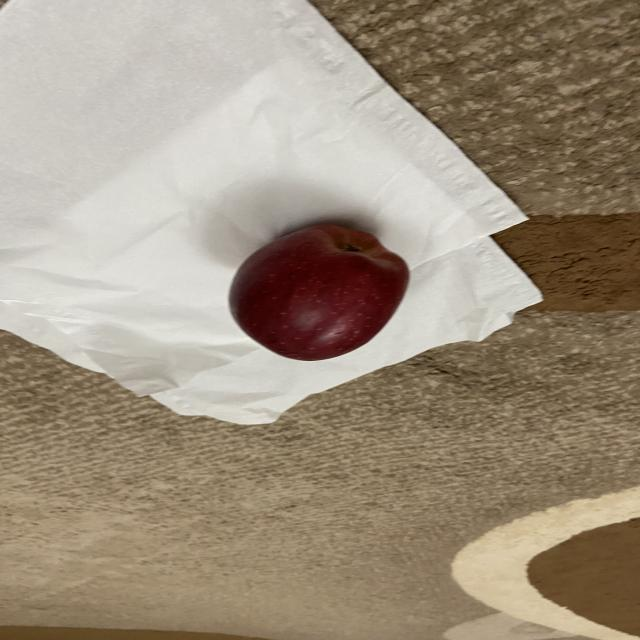apple: (227, 221, 413, 365)
